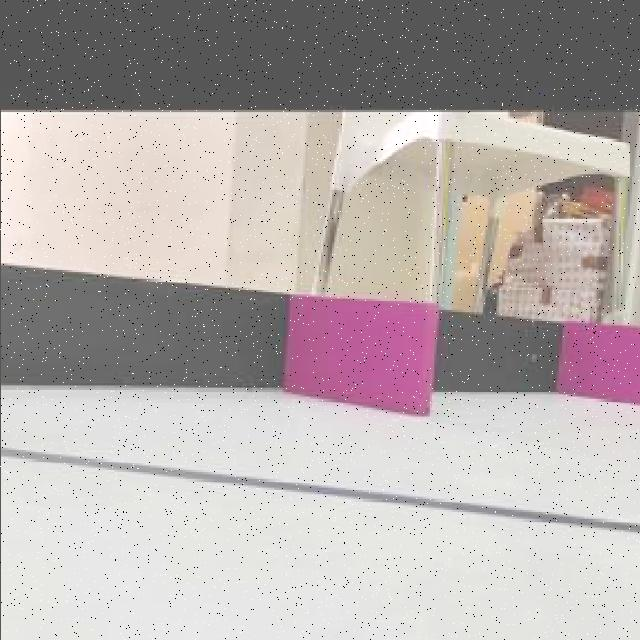xparking: (298, 304, 432, 408), (571, 326, 640, 401)
